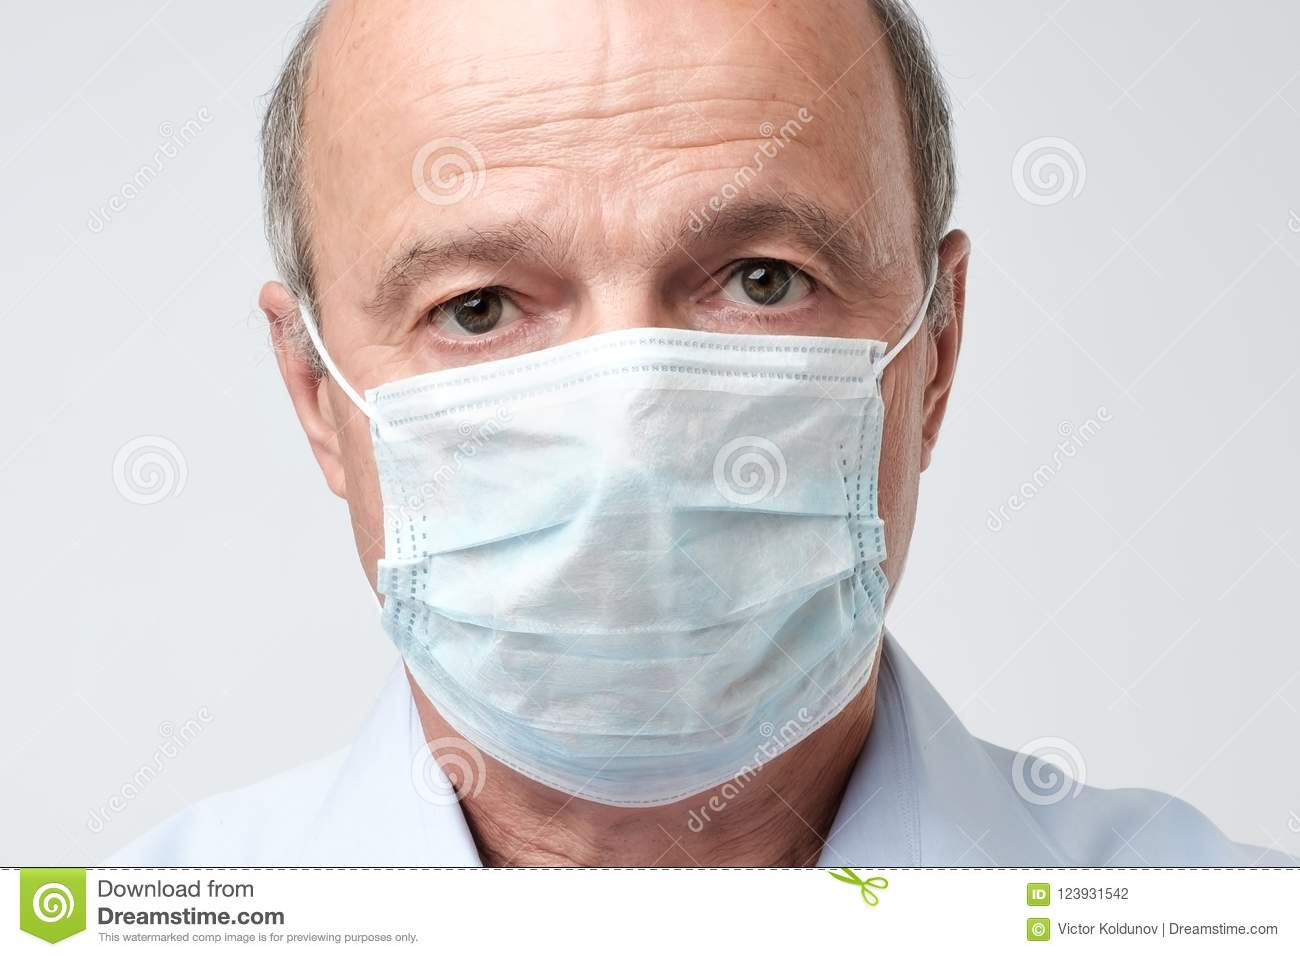mask: (364, 351, 951, 754)
